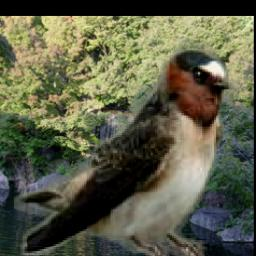Swallow: (15, 39, 238, 256)
